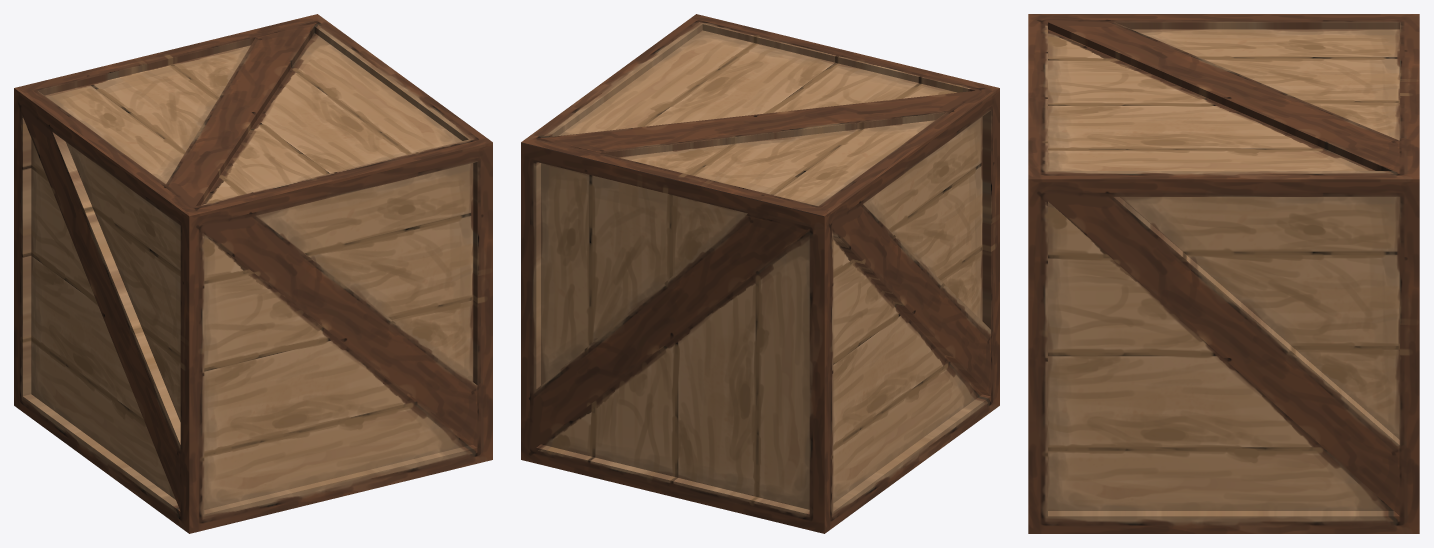
The model's file is crateNewv2.fbx.
The picture shows the model from 3 angles, left to right: view 1: azimuth 30°, elevation 25°; view 2: azimuth 150°, elevation 25°; view 3: azimuth 270°, elevation 25°; orthographic projection. The views are drawn at different scales.
Parts seen in each view (by area): view 1: Cube; view 2: Cube; view 3: Cube.
Boxes of the visible parts, left/top/right/bottom form: Cube: left=14, top=14, right=492, bottom=533; Cube: left=521, top=14, right=999, bottom=533; Cube: left=1028, top=14, right=1419, bottom=533.
Bounding box in the file's own units: 200 × 200 × 200.
Materials: 1 (1 with a texture image).
